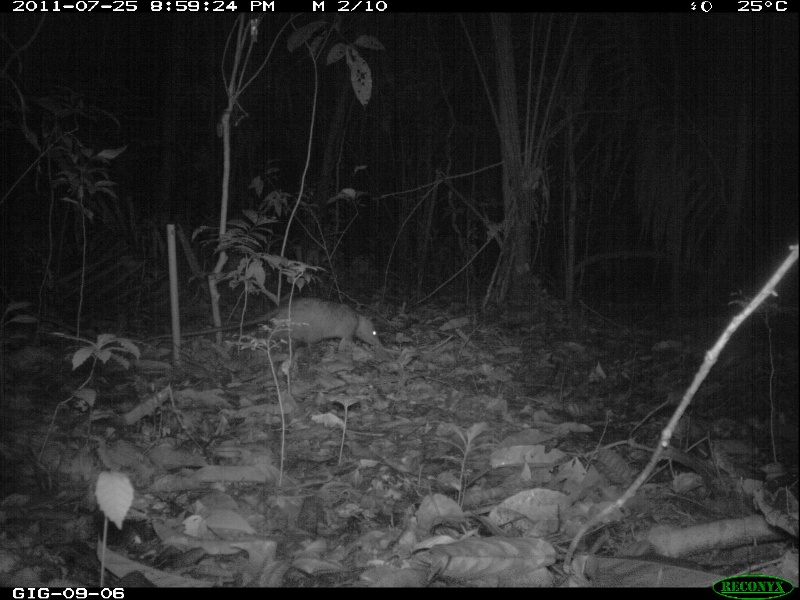opossum: (155, 296, 386, 346)
